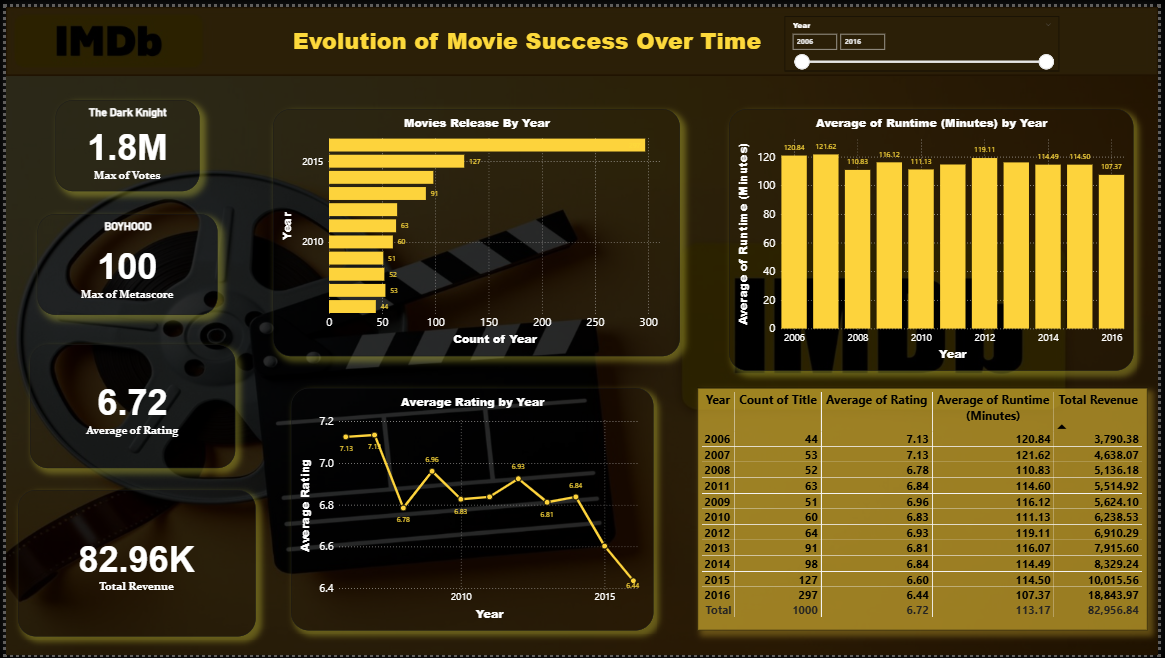

What the dashboard file says about the page in this screenshot:
{"tool":"powerbi","page":{"name":"Page 1","canvas":[1920,1080],"ordinal":0},"visuals":[{"type":"barChart","title":"Movies Release By Year","fields":{"Category":["IMDB-Movie-Data.Year"],"Y":["CountNonNull(IMDB-Movie-Data.Year)"]},"box":[446,170,678,412],"z":0},{"type":"lineChart","fields":{"Category":["IMDB-Movie-Data.Year"],"Y":["IMDB-Movie-Data.Average Rating"]},"box":[474,634,604,404],"z":1000},{"type":"textbox","box":[412,22,912,74],"z":2000},{"type":"card","fields":{"Values":["Avg(IMDB-Movie-Data.Rating)"]},"box":[40,562,342,206],"z":3000},{"type":"clusteredColumnChart","fields":{"Category":["IMDB-Movie-Data.Year"],"Y":["Avg(IMDB-Movie-Data.Runtime (Minutes))"]},"box":[1206,170,674,436],"z":4000},{"type":"card","fields":{"Values":["IMDB-Movie-Data.Total Revenue"]},"box":[20,804,396,244],"z":5000},{"type":"card","title":"The Dark Knight","fields":{"Values":["Max(IMDB-Movie-Data.Votes)"]},"box":[82,154,240,152],"z":6000},{"type":"tableEx","fields":{"Values":["IMDB-Movie-Data.Year","IMDB-Movie-Data.Title","Avg(IMDB-Movie-Data.Rating)","Avg(IMDB-Movie-Data.Runtime (Minutes))","IMDB-Movie-Data.Total Revenue"]},"box":[1152,634,750,404],"z":7000},{"type":"card","title":"BOYHOOD","fields":{"Values":["Max(IMDB-Movie-Data.Metascore)"]},"box":[52,346,300,168],"z":8000},{"type":"slicer","fields":{"Values":["IMDB-Movie-Data.Year"]},"box":[1298,14,458,92],"z":9000}]}

Visuals, with their boxes in screenshot pixels (x1, y1, x2, y2), scaled from the page's 1920x1080 canvas onto the 1165x658 screenshot:
"Movies Release By Year" barChart: pyautogui.locateOnScreen(271, 104, 682, 355)
lineChart - IMDB-Movie-Data.Year x IMDB-Movie-Data.Average Rating: pyautogui.locateOnScreen(288, 386, 654, 632)
textbox: pyautogui.locateOnScreen(250, 13, 803, 58)
card - Avg(IMDB-Movie-Data.Rating): pyautogui.locateOnScreen(24, 342, 232, 468)
clusteredColumnChart - IMDB-Movie-Data.Year x Avg(IMDB-Movie-Data.Runtime (Minutes)): pyautogui.locateOnScreen(732, 104, 1141, 369)
card - IMDB-Movie-Data.Total Revenue: pyautogui.locateOnScreen(12, 490, 252, 639)
"The Dark Knight" card: pyautogui.locateOnScreen(50, 94, 195, 186)
tableEx - IMDB-Movie-Data.Year x IMDB-Movie-Data.Title: pyautogui.locateOnScreen(699, 386, 1154, 632)
"BOYHOOD" card: pyautogui.locateOnScreen(32, 211, 214, 313)
slicer - IMDB-Movie-Data.Year: pyautogui.locateOnScreen(788, 9, 1065, 65)
